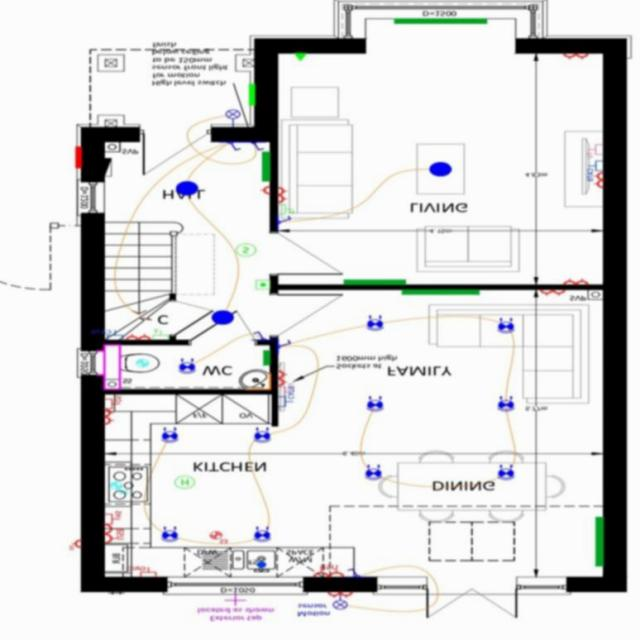BT Entry Point: (294, 55, 305, 62)
Cat 6 Data Socket: (585, 161, 602, 183), (278, 387, 293, 408), (100, 330, 122, 340)
Ceiling Mounted Continuous Extract FanWith Boost Mode Activated By Light Switch: (136, 360, 148, 368)
Ceiling Mounted Continuous Extract FanWith Local Boost Switch: (209, 532, 227, 545)
Co-Ax TV Socket: (585, 146, 602, 160), (278, 384, 293, 397)
Consumer Unit: (104, 159, 111, 178)
Double Socket: (125, 334, 150, 342), (103, 410, 114, 427), (539, 291, 565, 297), (277, 188, 287, 203), (562, 54, 587, 60), (563, 280, 588, 286), (328, 593, 352, 599), (277, 371, 286, 386), (593, 173, 602, 188)
Electric Meter Box: (74, 147, 81, 170)
External Wall Light: (225, 110, 240, 128), (332, 595, 347, 611)
Gas Meter Box: (248, 84, 254, 107)
Grid Switch: (126, 566, 156, 578)
Hob Switch: (103, 512, 121, 525)
Light Switch: (277, 216, 290, 225), (278, 340, 290, 349), (253, 332, 265, 341), (228, 143, 240, 151), (250, 144, 263, 151), (347, 569, 357, 578)
Low Energy Downlighter: (160, 527, 178, 543), (160, 428, 178, 444), (253, 428, 270, 444), (364, 465, 381, 481), (366, 397, 383, 413), (496, 466, 514, 481), (365, 316, 383, 331), (497, 397, 513, 413), (497, 318, 513, 334), (253, 528, 270, 543), (178, 359, 195, 374)
Low Energy Pendant Light: (175, 182, 198, 197), (211, 311, 233, 326), (429, 163, 451, 177)
Mains Wired Smoke Detector: (235, 244, 255, 257)
Outside Socket: (68, 540, 79, 552)
Oven Switch: (104, 397, 121, 410)
Programmable Room Thermostat: (254, 281, 268, 290)
Radiator: (394, 19, 486, 25), (594, 518, 603, 568), (401, 290, 479, 295), (343, 280, 405, 286), (261, 153, 269, 183), (263, 352, 270, 366)
Recirculating Extractor Fan: (109, 483, 127, 495)
Single Socket: (260, 187, 268, 195)
Telephone Socket: (152, 330, 168, 341), (278, 205, 293, 215)
USB Double Socket: (103, 524, 124, 544), (313, 565, 343, 578)
Water Entry Position: (224, 594, 245, 607), (256, 562, 266, 568)
